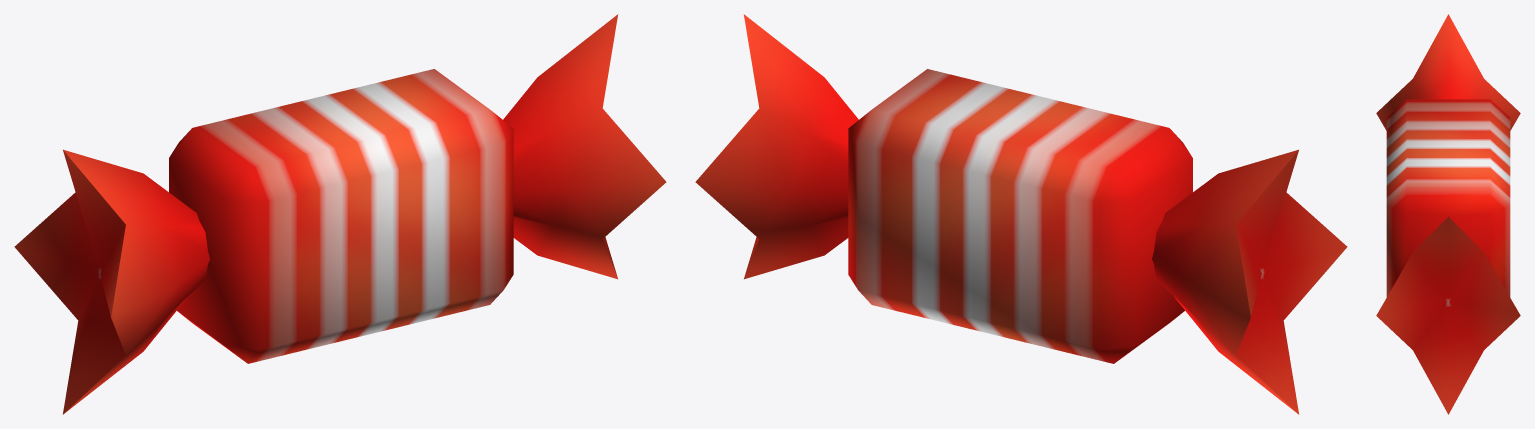
File: Candy_D.fbx
The picture shows the model from 3 angles, left to right: view 1: azimuth 30°, elevation 25°; view 2: azimuth 150°, elevation 25°; view 3: azimuth 270°, elevation 25°; orthographic projection. The views are drawn at different scales.
Parts seen in each view (by area): view 1: Candy_D; view 2: Candy_D; view 3: Candy_D.
Boxes of the visible parts, x1,y1,x2,y2 form: Candy_D: (14, 14, 666, 414); Candy_D: (695, 14, 1347, 414); Candy_D: (1376, 14, 1520, 414).
Size of the model in its own units: 6.38 by 2.91 by 1.92.
